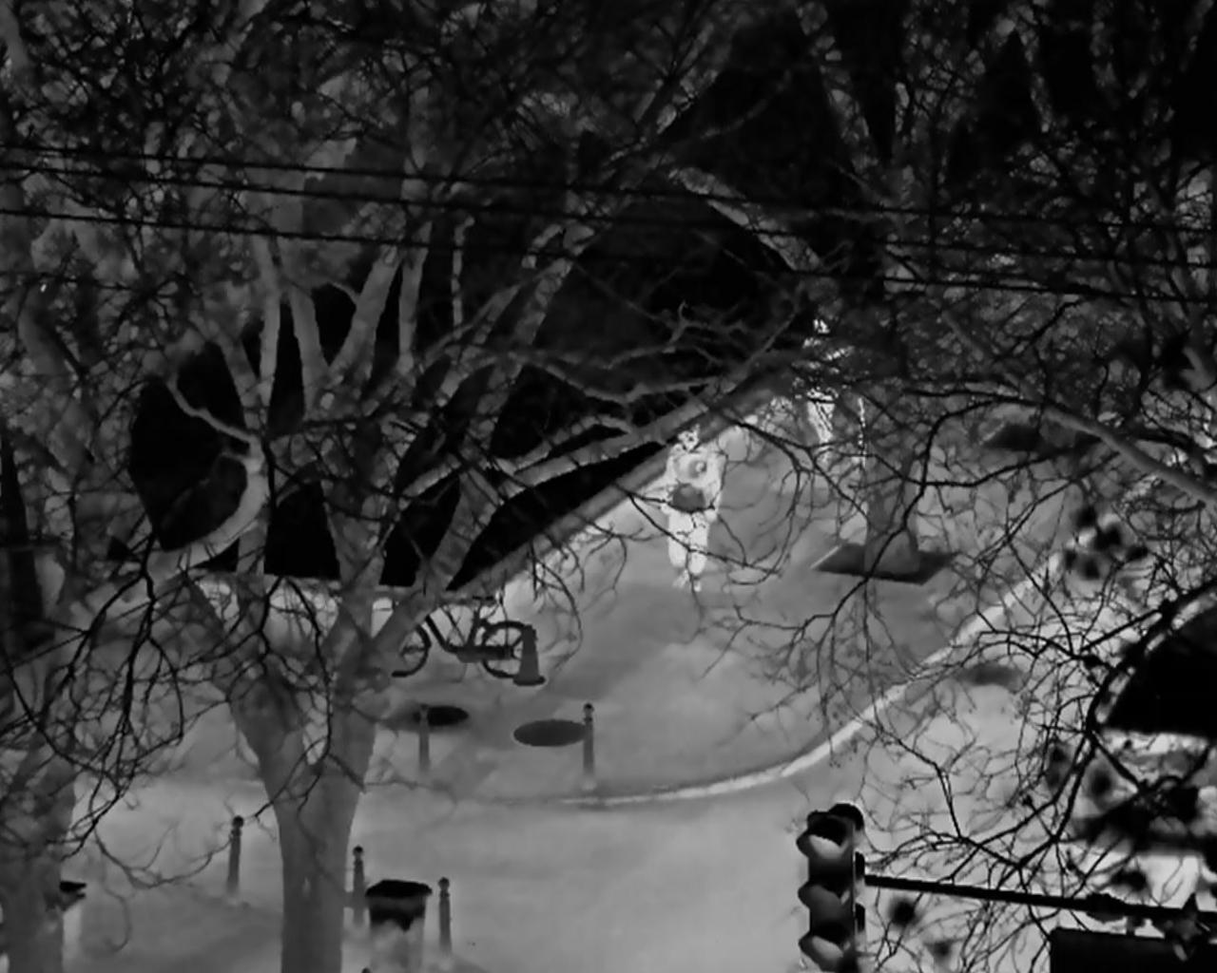person: (662, 422, 723, 594)
